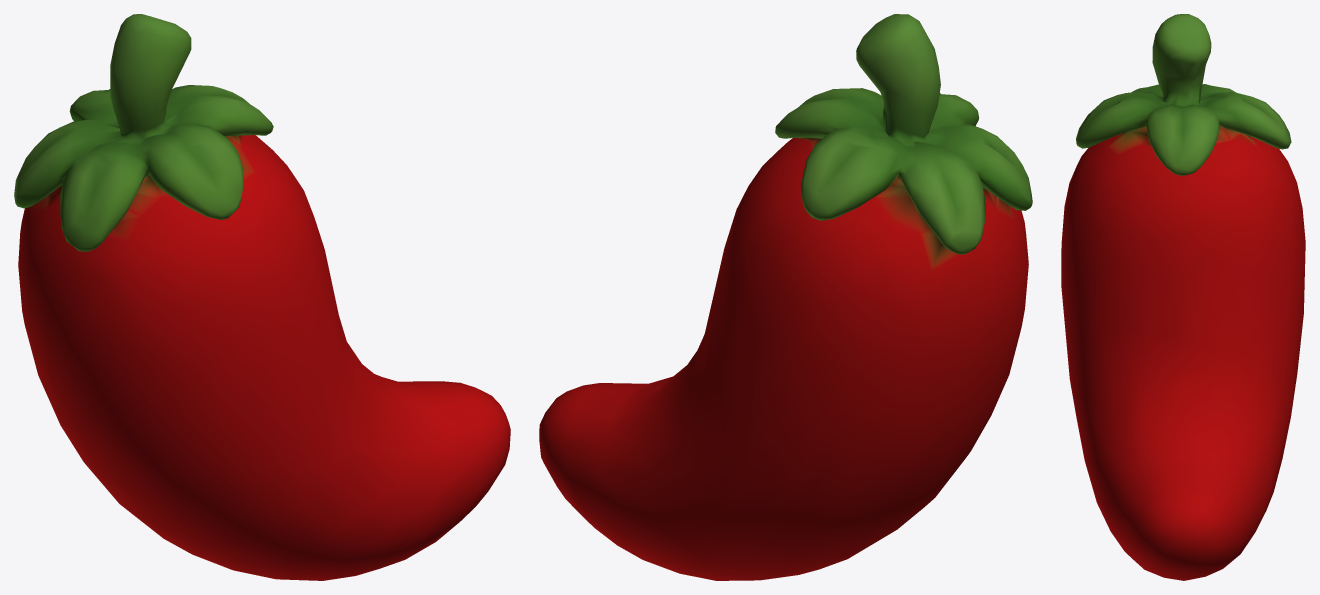
File: meshy-pepper.glb
3 renders of one model, left to right at view 1: azimuth 30°, elevation 25°; view 2: azimuth 150°, elevation 25°; view 3: azimuth 270°, elevation 25°, orthographic. The views are drawn at different scales.
Parts seen in each view (by area): view 1: Mesh_0; view 2: Mesh_0; view 3: Mesh_0.
Boxes of the visible parts, bbox=[...] form: Mesh_0: bbox=[14, 14, 510, 580]; Mesh_0: bbox=[539, 14, 1032, 580]; Mesh_0: bbox=[1061, 14, 1305, 580].
Bounding box in the file's own units: 1.54 × 1.9 × 0.8962.
